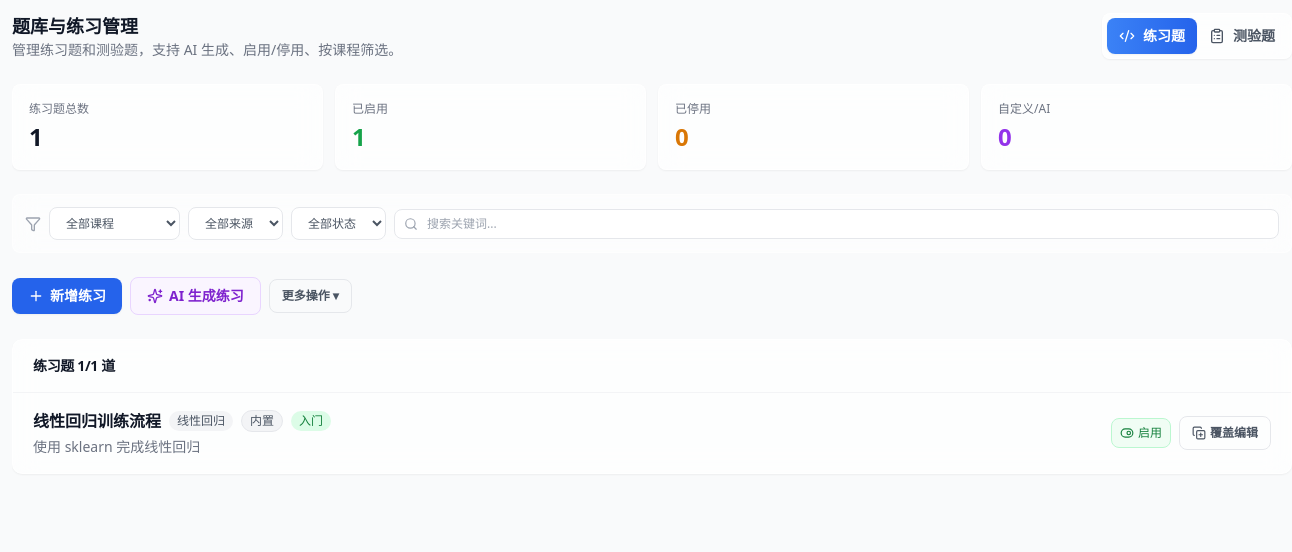
Test: AdminQuestionPanel › 渲染 › 切换到测验题Tab后显示测验列表
The width and height of the screenshot is (1292, 552).
Click the button "测验题". click: (1242, 36)
box: x1=1197 y1=18 x2=1287 y2=54
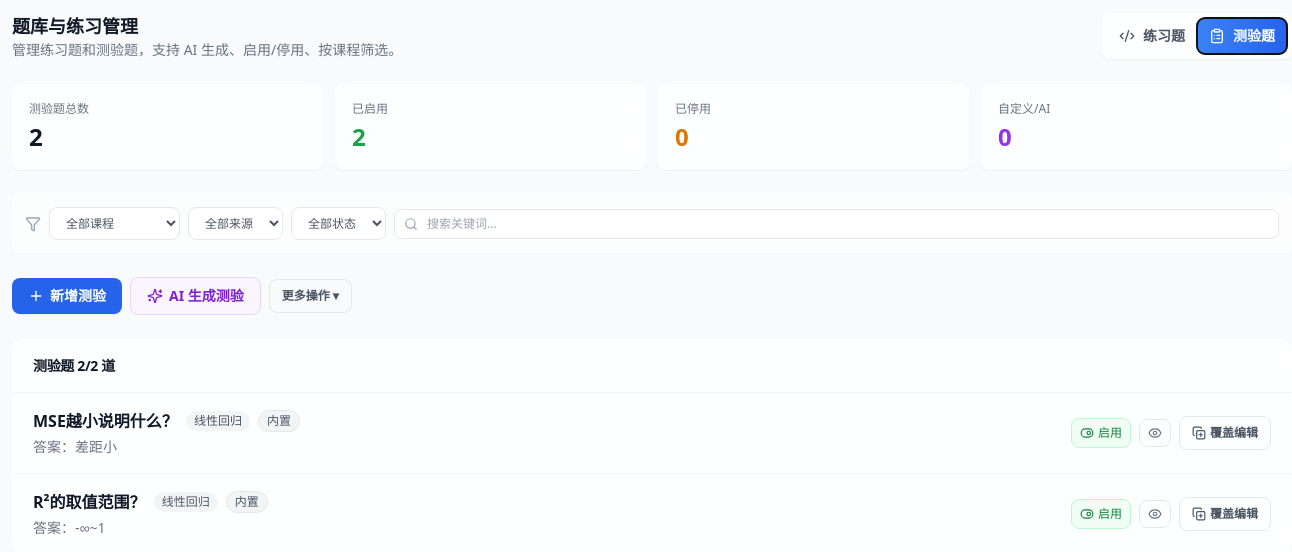
Expected: the text "MSE越小说明什么？" is shown, x1=33 y1=409 x2=178 y2=433
Expected: the button "新增测验" is shown, x1=12 y1=278 x2=122 y2=314
